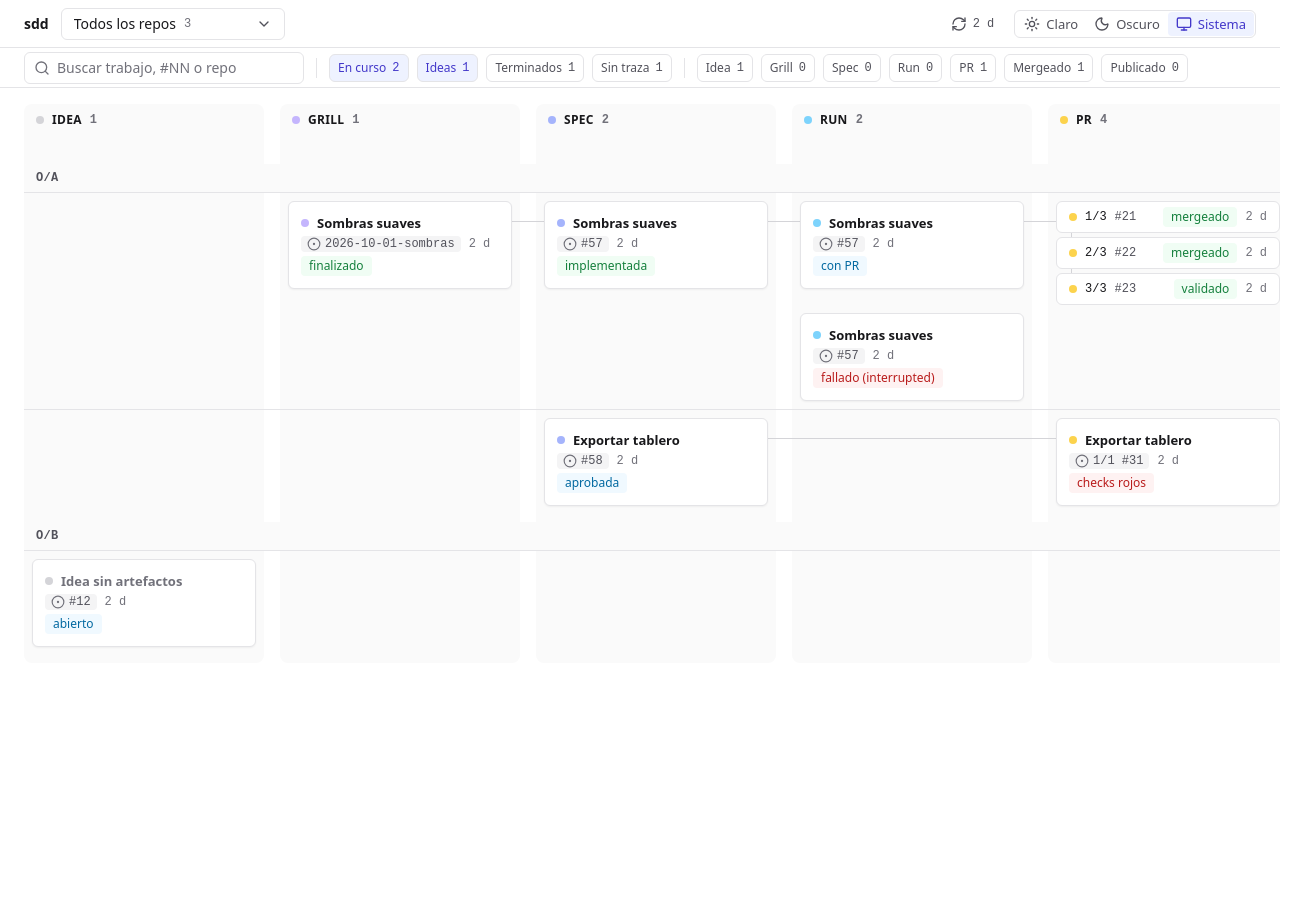
Test: grupo «Sin traza (N)» › tocar la chip Sin traza lo hace aparecer
Click the button "Sin traza 1": point(632, 68) [592, 54, 672, 82]
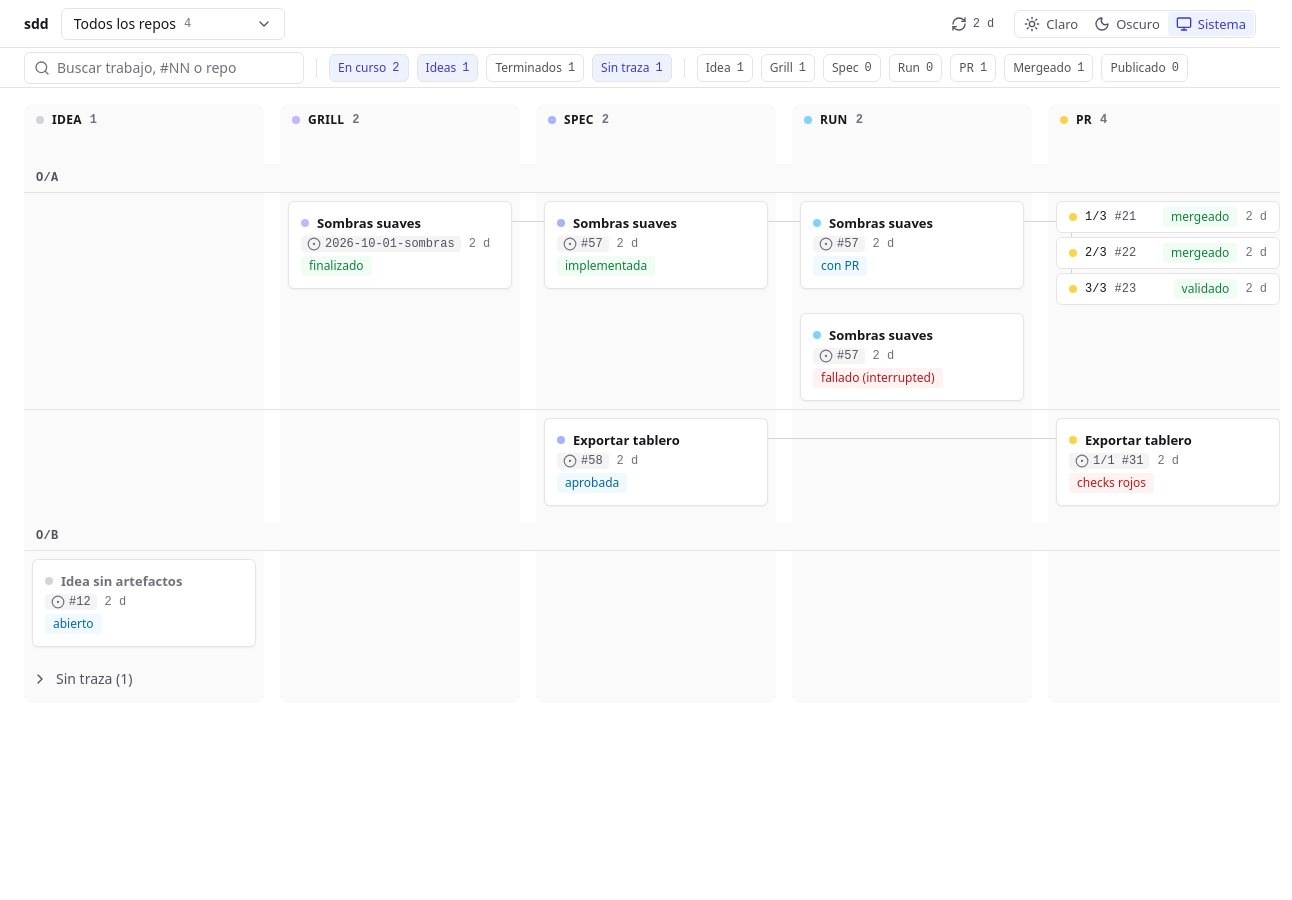
Expected: the button "Sin traza (1)" is shown, [24, 663, 140, 695]
